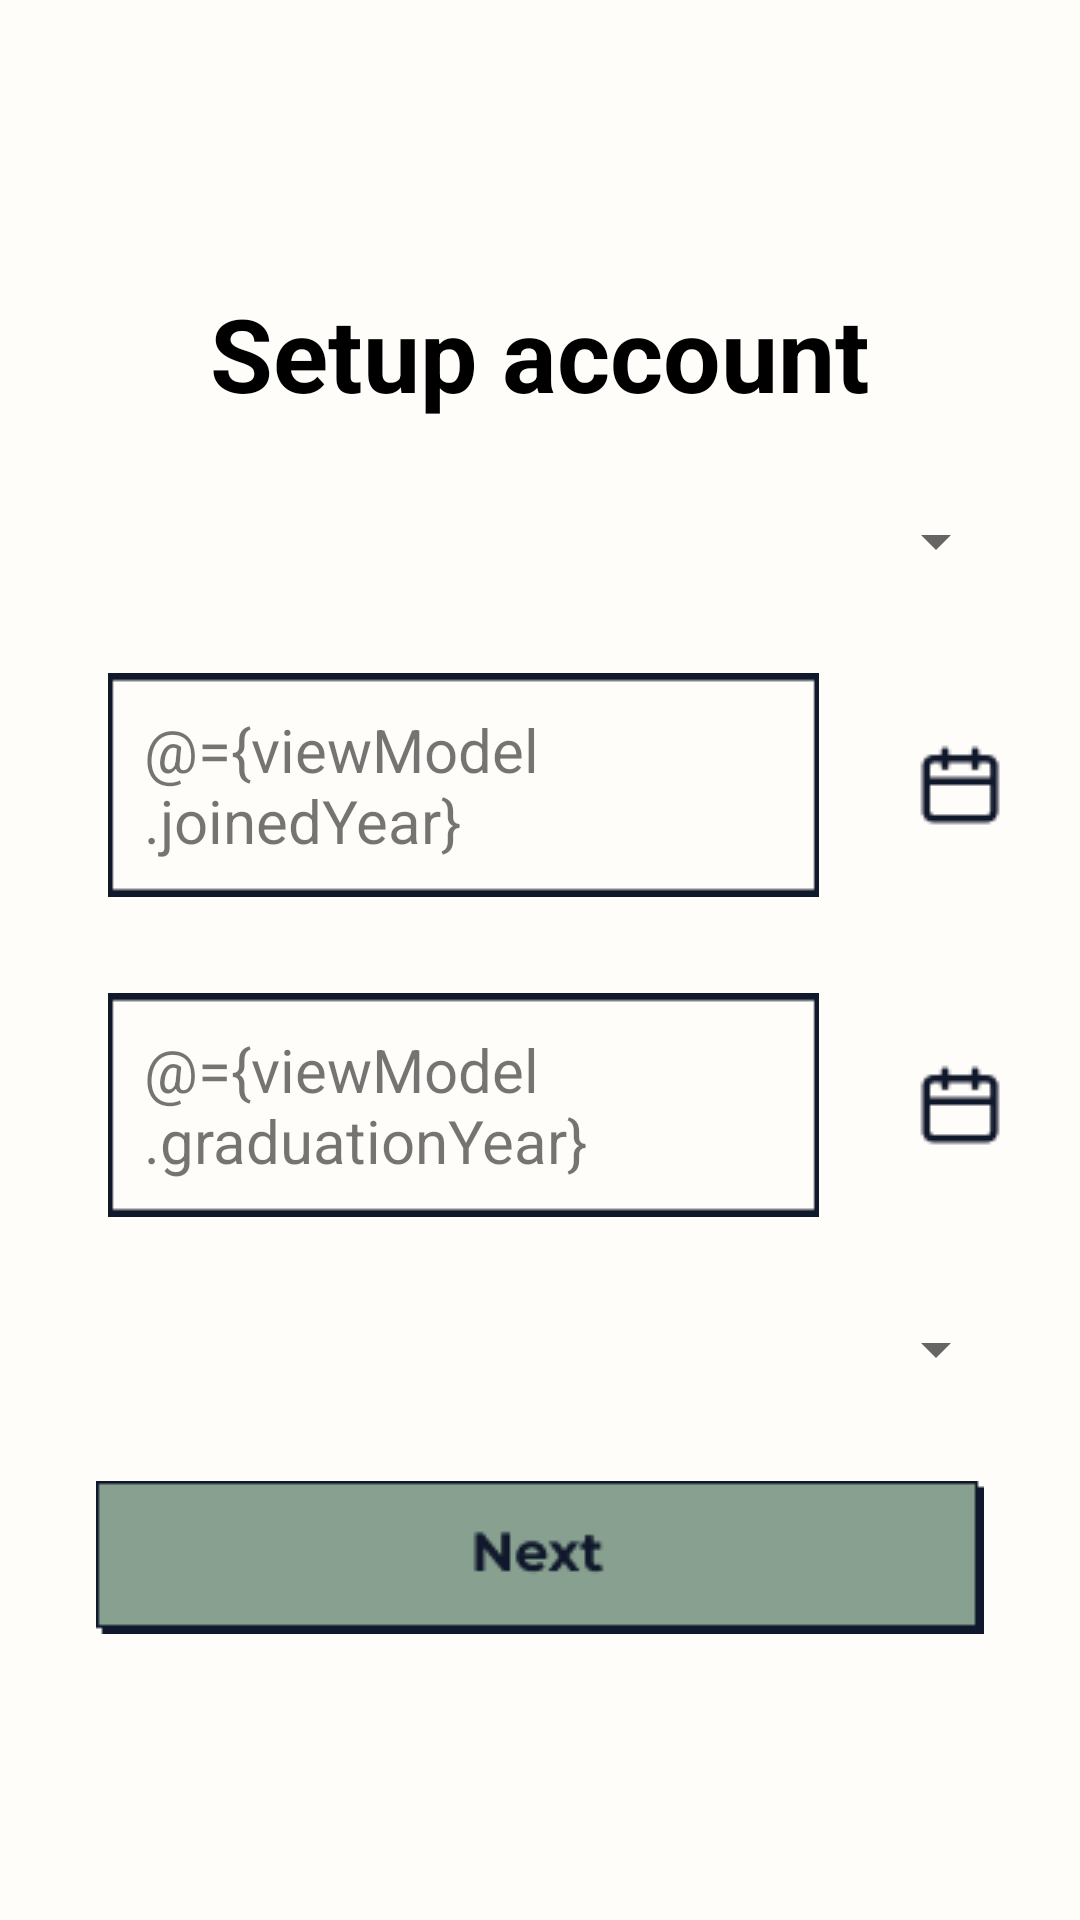

Point at icon controls on the screen. Image size 1080 × 1920, points as [x,y].
calender: [960,785], [960,1105]
